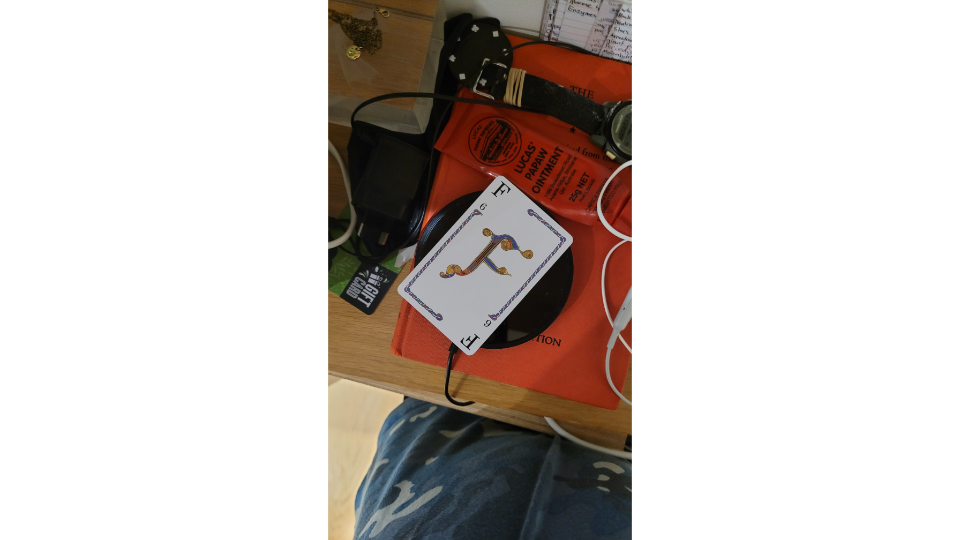F: (395, 174, 576, 358)
